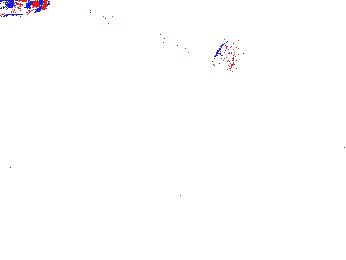X-ray fish: (210, 38, 246, 69)
glassfish: (82, 6, 212, 80)
redtail glassfish: (1, 1, 49, 18)
